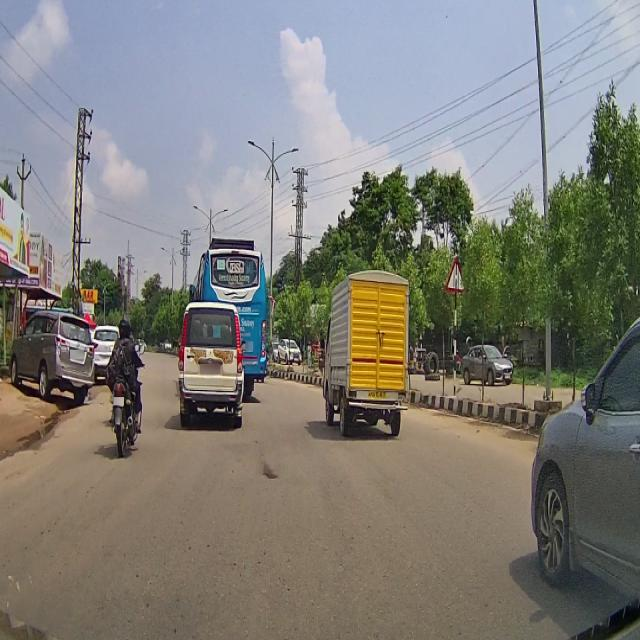car ahead at: (528, 317, 640, 592), (322, 266, 412, 438), (178, 298, 247, 428), (12, 304, 95, 406)
motorcycle ahead at: (109, 372, 146, 456)
